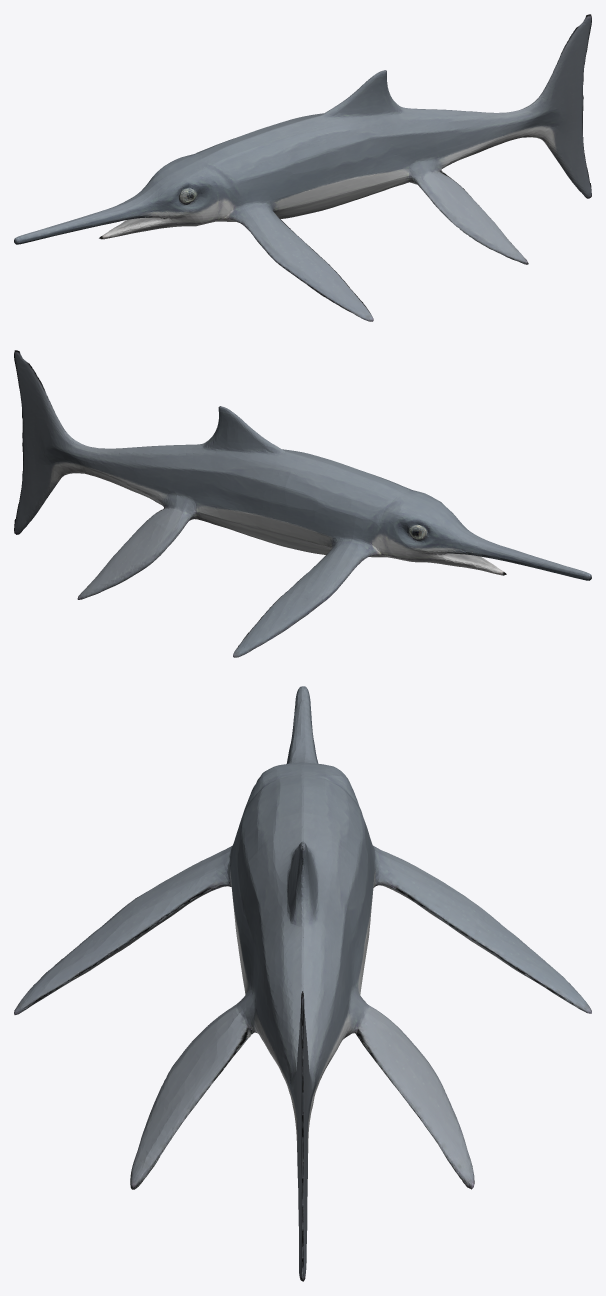
Rendered from model-59c6abfffe3c.glb.
3 views of the same model, one above another, from view 1: azimuth 30°, elevation 25°; view 2: azimuth 150°, elevation 25°; view 3: azimuth 270°, elevation 25° (orthographic). The views are drawn at different scales.
Visible parts, largest first — view 1: world; view 2: world; view 3: world.
Part boxes in pixels (box(x1,y1,x2,y2)): world: box(14, 14, 591, 321); world: box(14, 350, 591, 657); world: box(14, 686, 591, 1281).
Bounding box in the file's own units: 0.9998 × 0.3053 × 0.553.
1 material, 1 textured.
